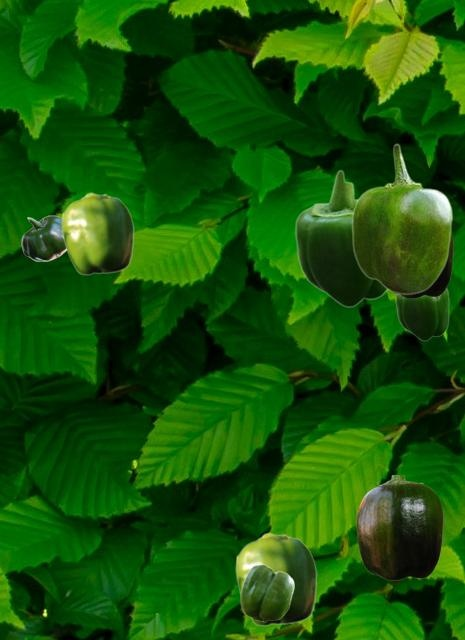bell_pepper: (351, 143, 452, 294), (294, 169, 387, 307), (356, 475, 442, 579), (235, 532, 316, 625), (61, 192, 133, 274), (395, 233, 452, 297), (240, 564, 293, 621), (395, 288, 448, 340), (21, 215, 65, 260)
